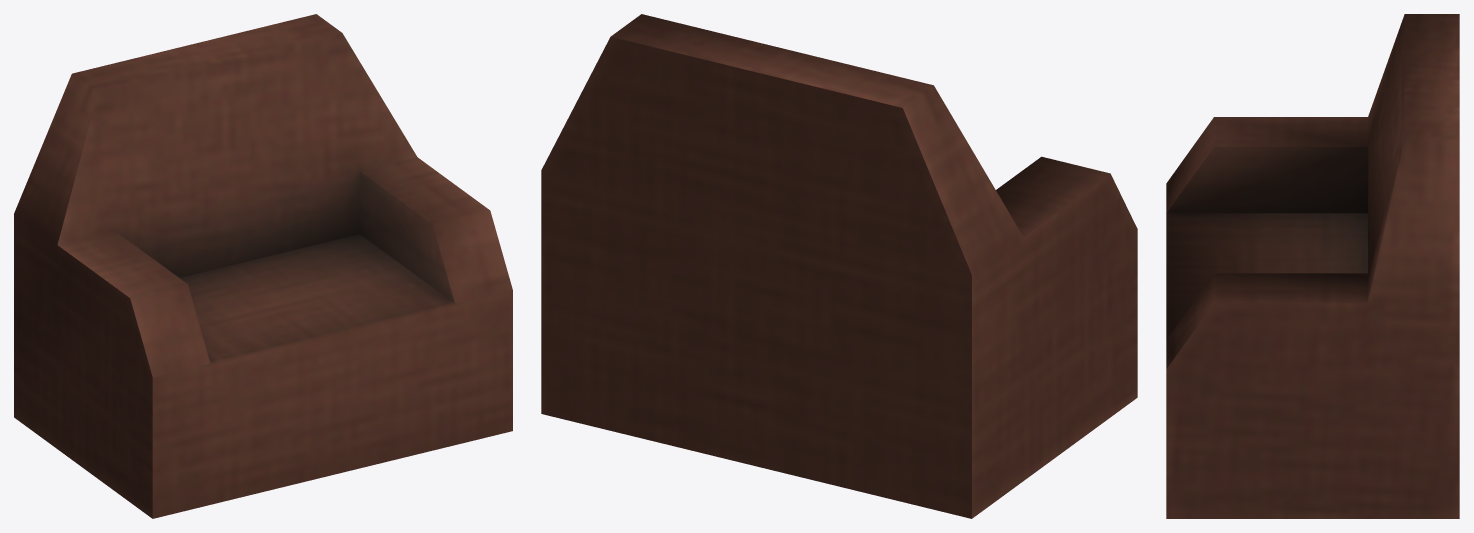
The model's file is Single Sofa1.fbx.
The picture shows the model from 3 angles, left to right: view 1: azimuth 30°, elevation 25°; view 2: azimuth 150°, elevation 25°; view 3: azimuth 270°, elevation 25°; orthographic projection. The views are drawn at different scales.
Parts seen in each view (by area): view 1: Single Sofa1; view 2: Single Sofa1; view 3: Single Sofa1.
Boxes of the visible parts, left/top/right/bottom form: Single Sofa1: left=14, top=14, right=512, bottom=518; Single Sofa1: left=541, top=14, right=1137, bottom=518; Single Sofa1: left=1166, top=14, right=1459, bottom=518.
Size of the model in its own units: 1.2 by 1.05 by 0.8.
Materials: 1 (1 with a texture image).
